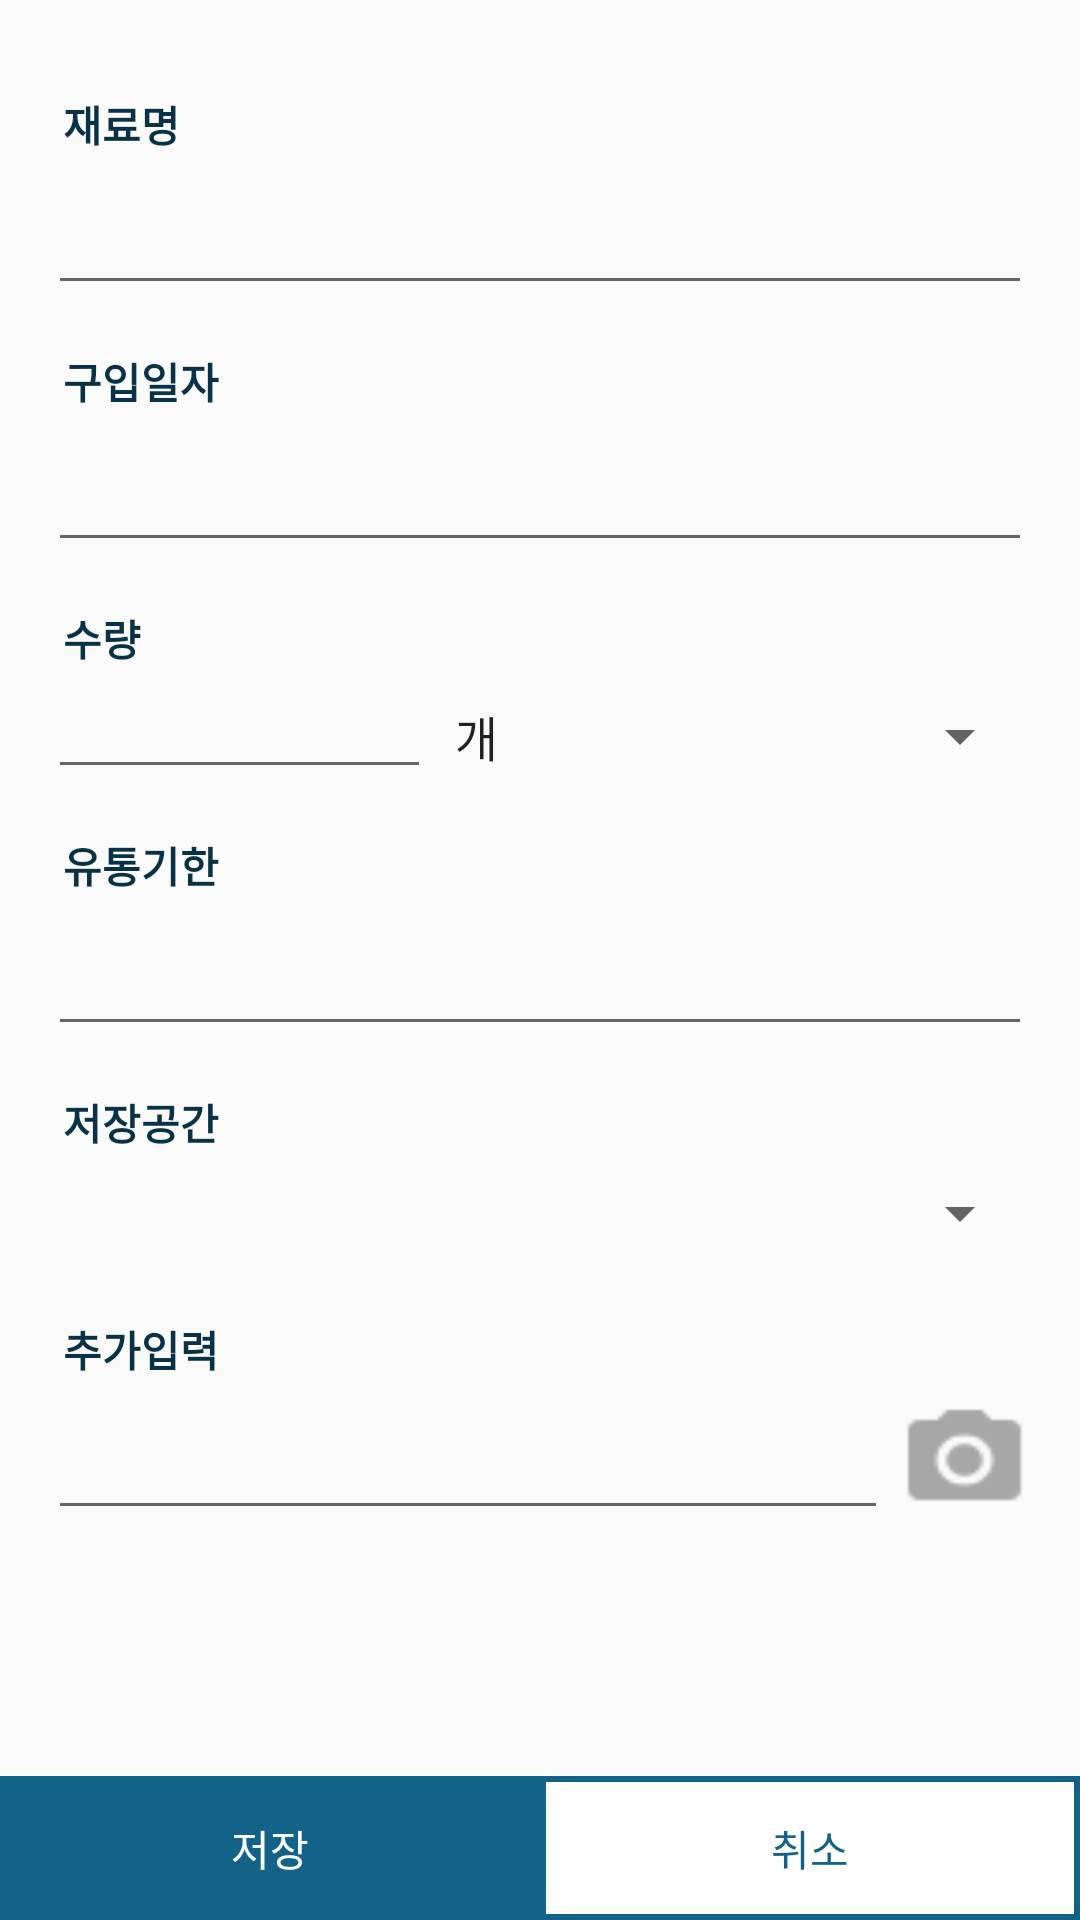

Locate icon controls on the screen. Image size 1080w x 1920h, boxes as box(x1, y1, x2, y2).
camera: box(907, 1409, 1022, 1501)
